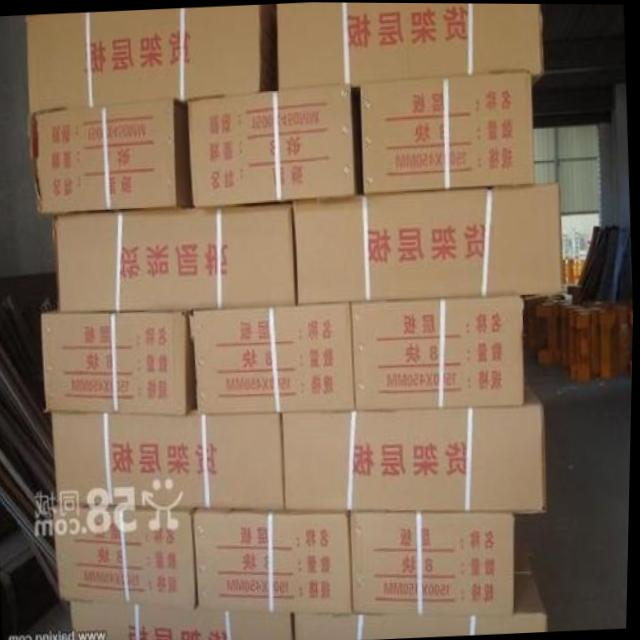box: (281, 380, 549, 512), (294, 181, 567, 305), (26, 5, 278, 115), (53, 201, 297, 313), (55, 404, 286, 511), (296, 547, 551, 640), (278, 2, 543, 89), (360, 69, 535, 193), (190, 85, 355, 206), (43, 292, 199, 416), (353, 298, 527, 408), (30, 102, 192, 214), (192, 306, 358, 413), (352, 510, 516, 616), (195, 510, 357, 615), (55, 509, 200, 609), (75, 601, 296, 640)
